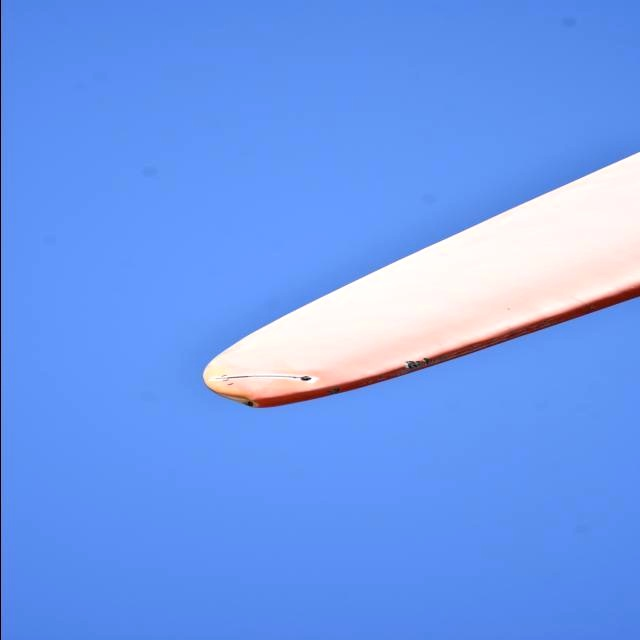Crack: (212, 368, 299, 389)
EROSION: (403, 354, 439, 377)
